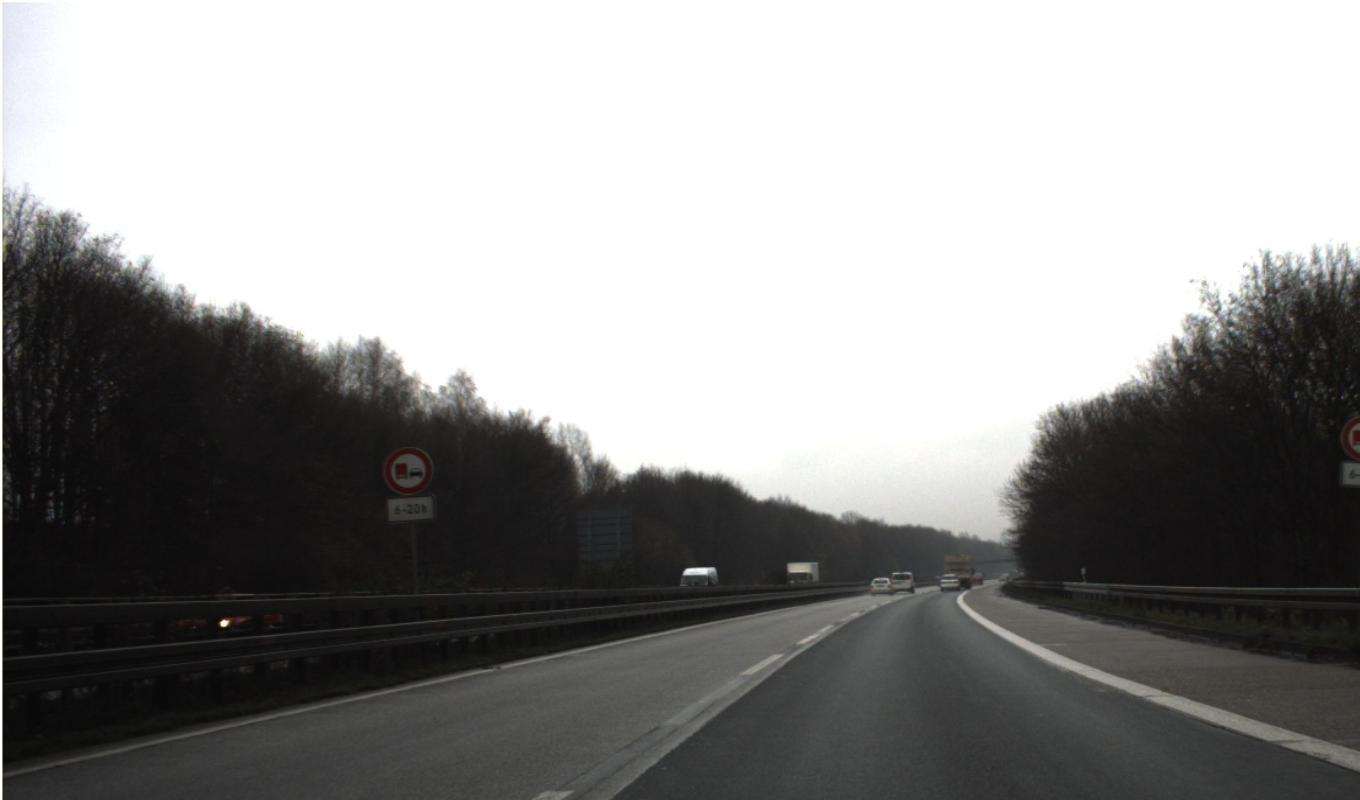no overtaking (trucks): (382, 413, 1360, 496)
